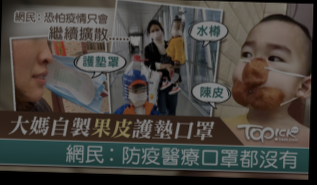with_mask: (232, 37, 301, 112), (125, 84, 149, 105), (170, 21, 185, 37), (149, 25, 163, 41)
without_mask: (10, 35, 53, 102)
